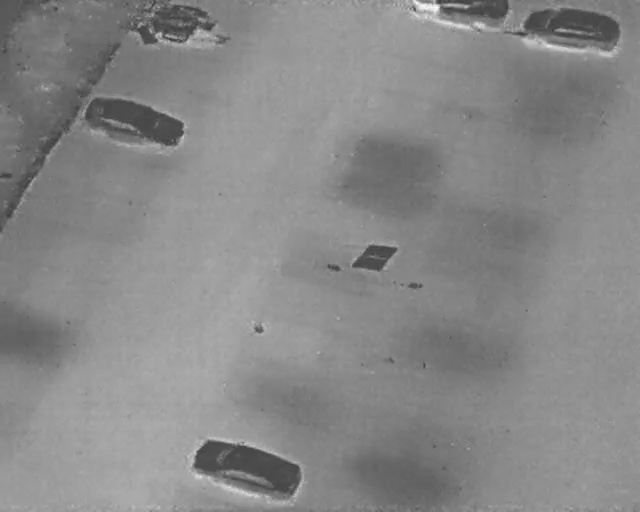Car: (186, 430, 308, 506), (78, 88, 192, 157), (518, 1, 626, 54), (406, 0, 513, 34)
DontCare: (129, 0, 220, 51)
